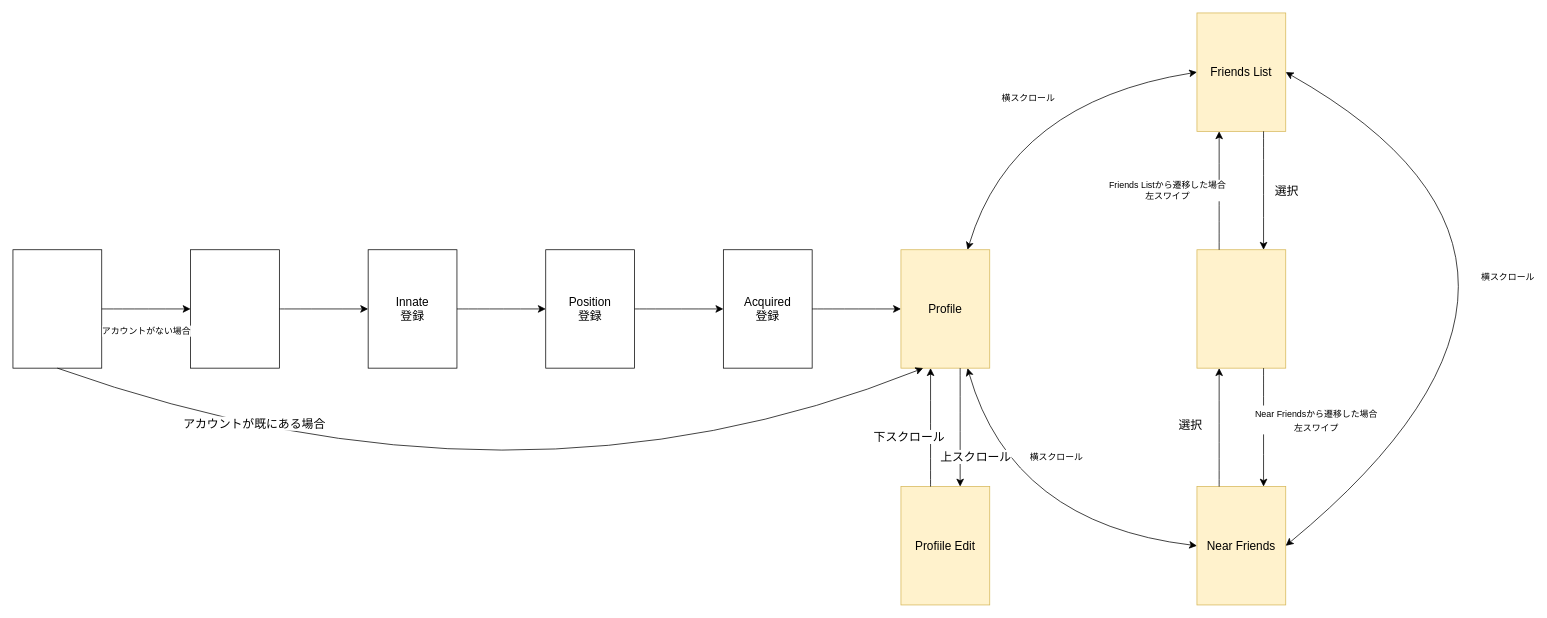
Some shapes in this 1547 by 618 pixel diagram are drawn without their labels. The centre of each missing label's shape, as x and y in pixels:
"Friend Detail" goes at (x=1241, y=308).
"サインイン 画面" goes at (x=57, y=308).
"ユーザーネーム 登録" goes at (x=234, y=308).
